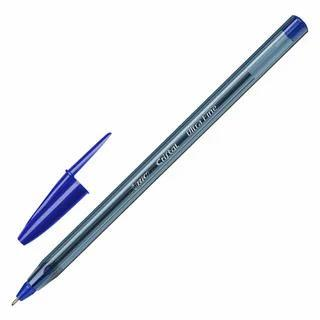pen-pencil: (16, 16, 307, 300)
